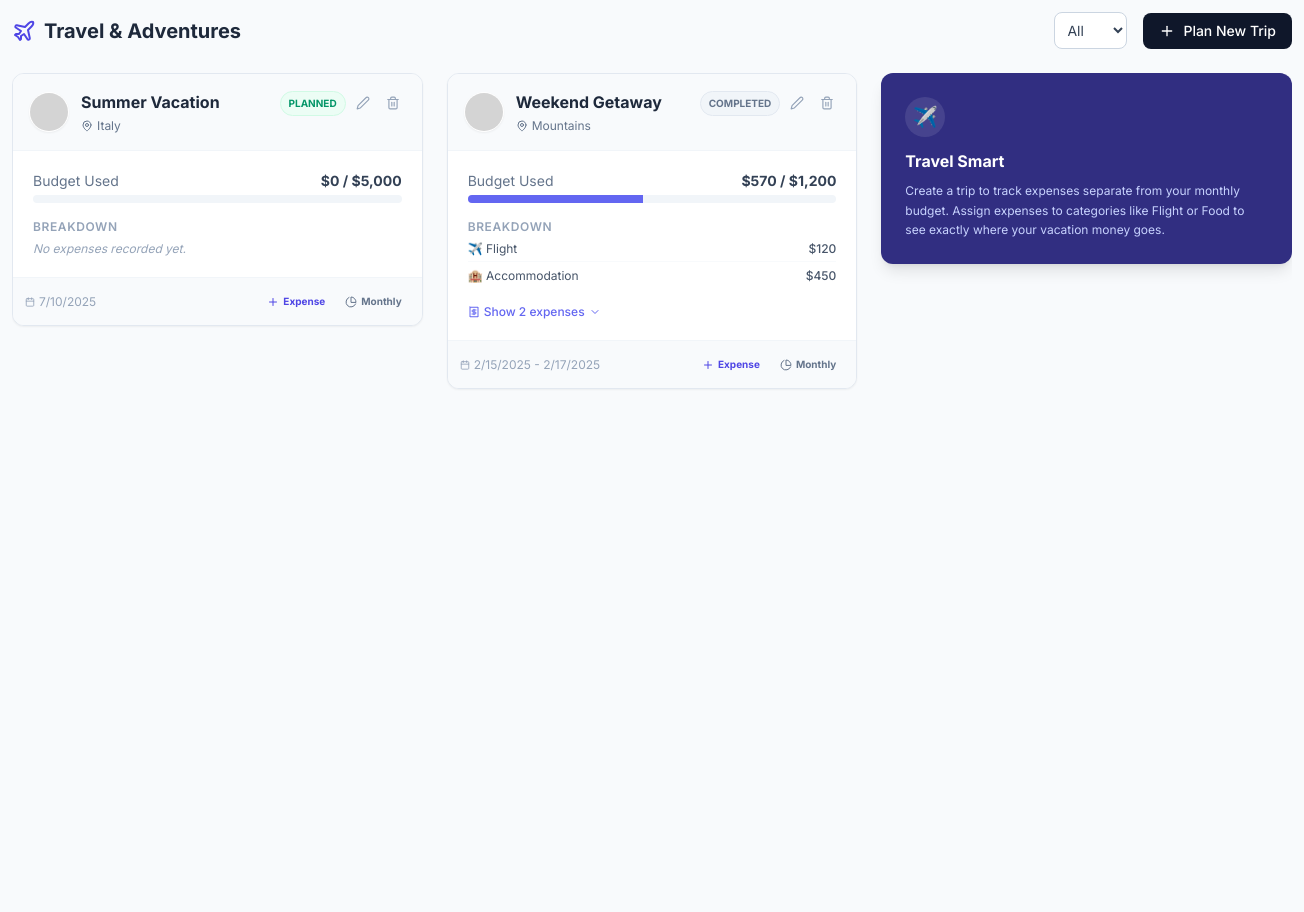
Test case: TravelDashboard › shows inline expense form when Add Expense is clicked
Click the button titled "Add Expense" in the row of "7/10/2025": (296, 302) [259,290,333,313]
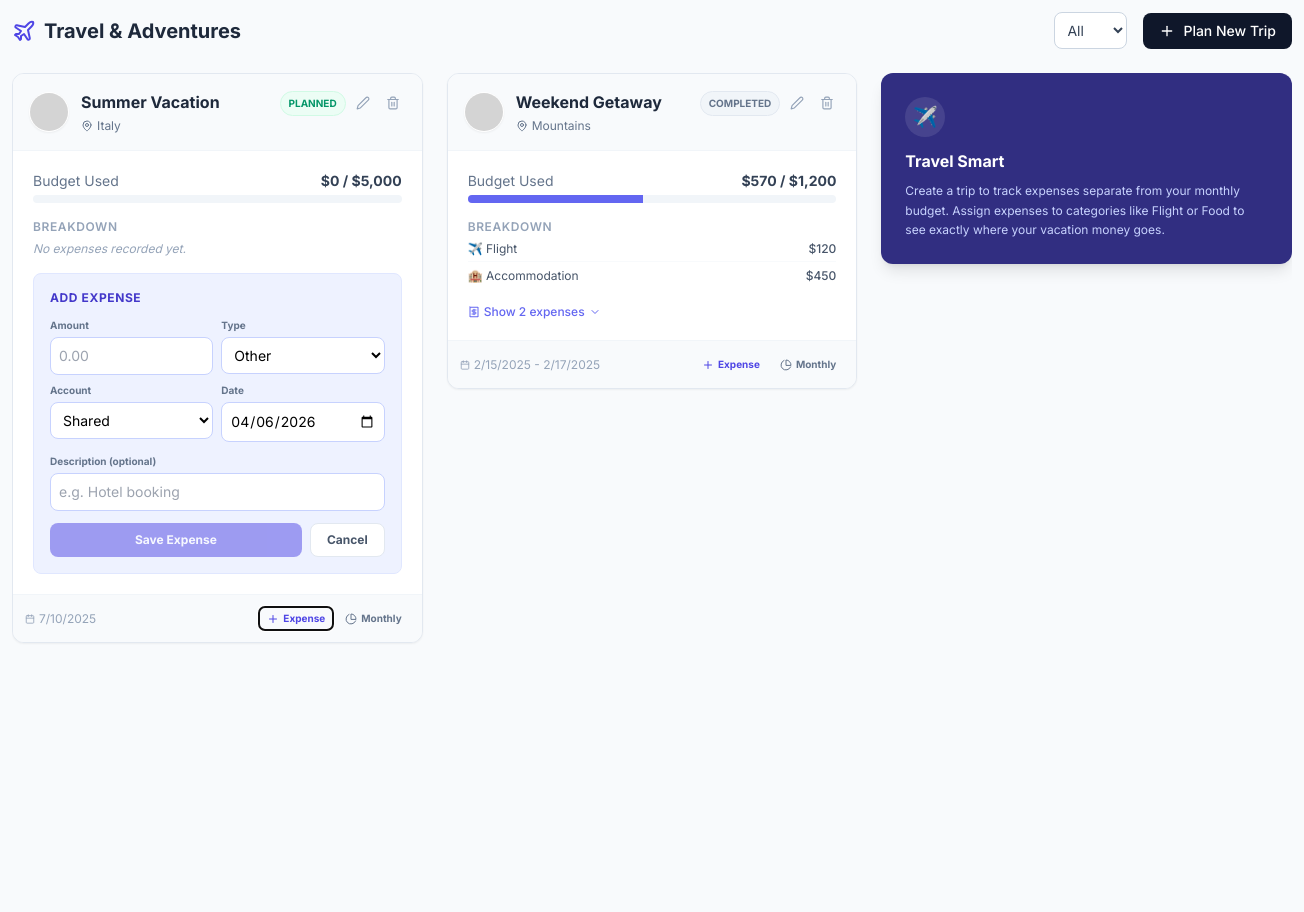
Expected: the heading "Add Expense" is shown, [50,290,141,305]
